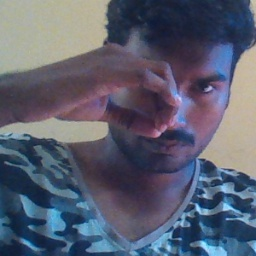O: (44, 39, 188, 146)
